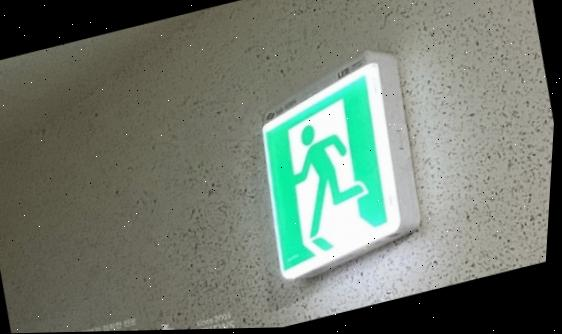emergency_exit: (261, 50, 421, 280)
